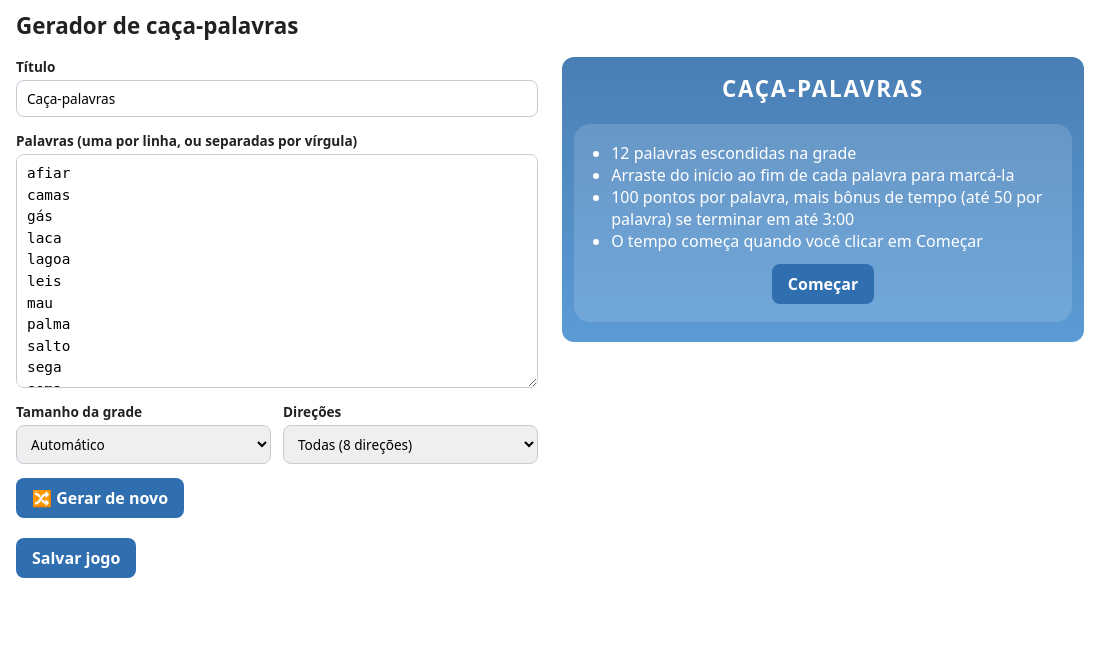
Test: caça-palavras como módulo › sem palavras válidas o Salvar fica desabilitado
This screenshot has width=1101, height=663.
Replace the text in the text box labelled "Palavras (uma por linha, ou separadas por vírgula)" with "a" at (277, 271), box top-left (16, 154), bottom-right (538, 388)
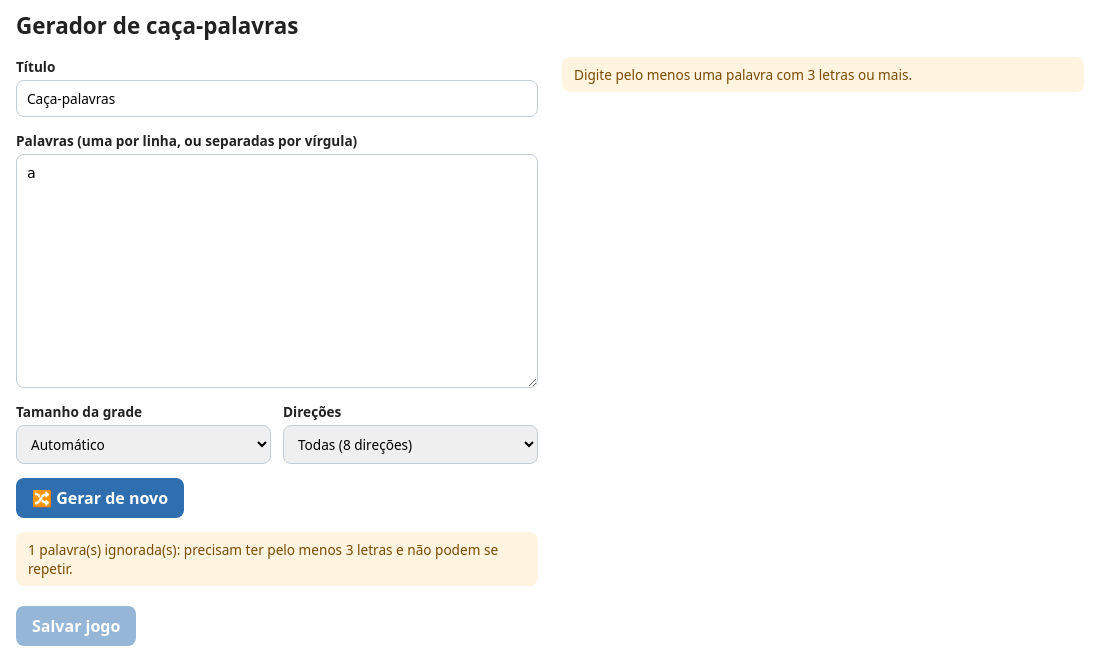
Now the button "Salvar jogo" is disabled, box top-left (16, 606), bottom-right (136, 646)
